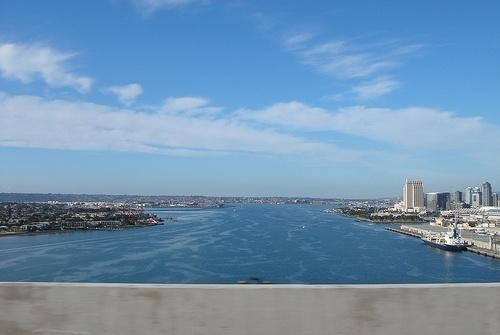boat: (422, 226, 472, 254)
